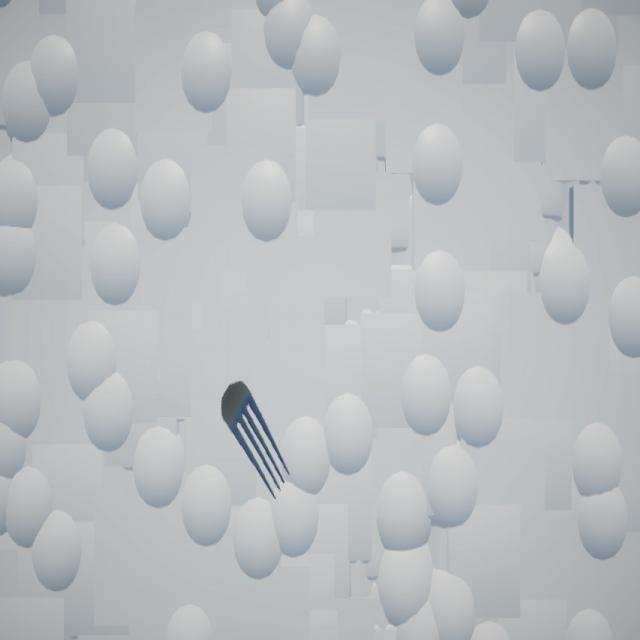top_folk: (222, 383, 291, 502)
